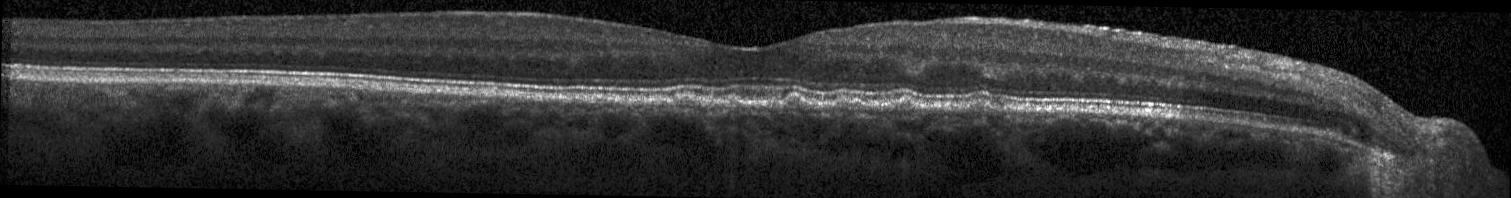retinal_drusen: (883, 98, 923, 112), (782, 95, 815, 110), (834, 99, 871, 111), (967, 102, 997, 114), (672, 96, 700, 108), (725, 97, 743, 106)
